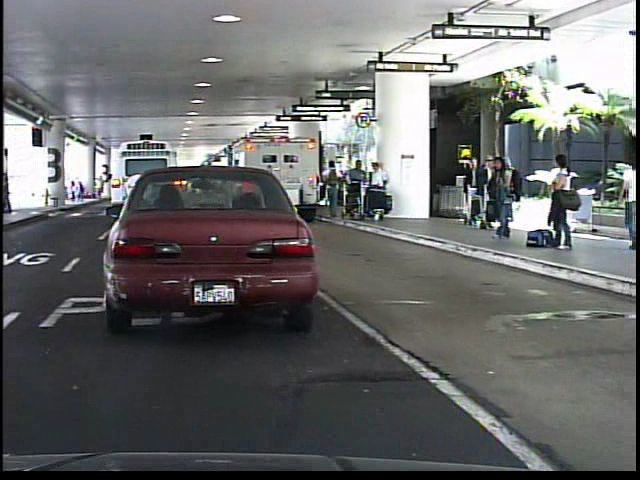person: (545, 148, 575, 254), (613, 154, 639, 250)
